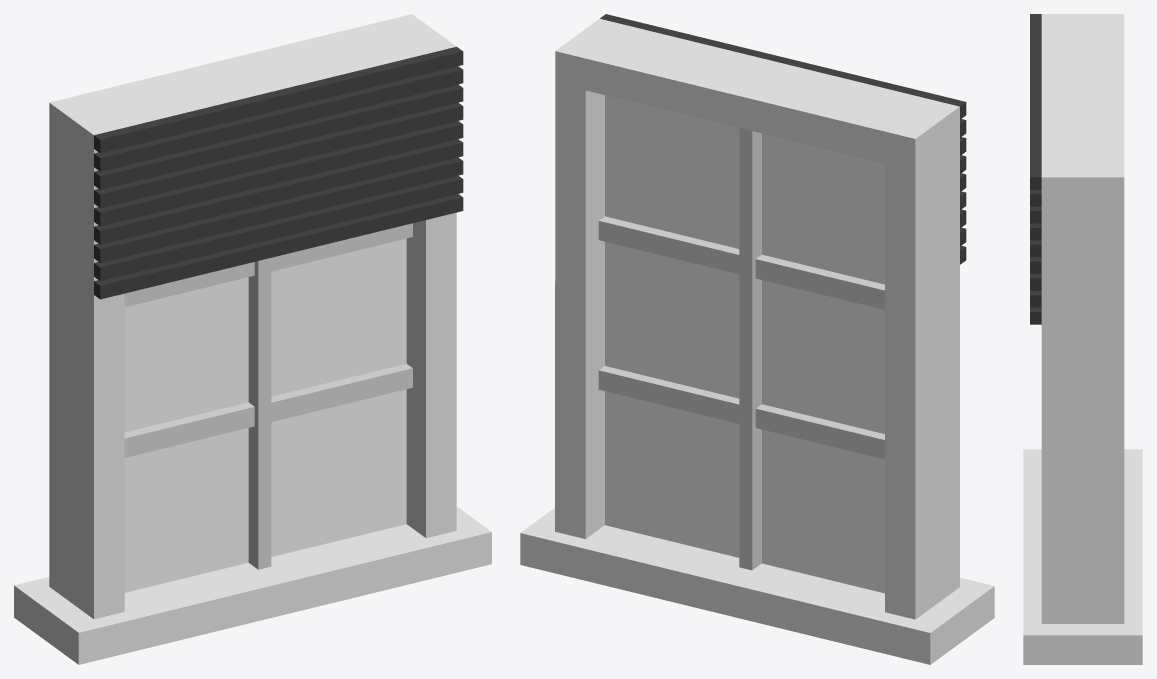
Rendered from window_003.fbx.
3 views of the same model, side by side, from view 1: azimuth 30°, elevation 25°; view 2: azimuth 150°, elevation 25°; view 3: azimuth 270°, elevation 25° (orthographic). The views are drawn at different scales.
Parts seen in each view (by area): view 1: window_003; view 2: window_003; view 3: window_003.
Part boxes in pixels (left/top/right/bottom): window_003: left=14, top=14, right=491, bottom=664; window_003: left=520, top=14, right=994, bottom=664; window_003: left=1023, top=14, right=1142, bottom=664.
Size of the model in its own units: 157 by 42.75 by 188.
